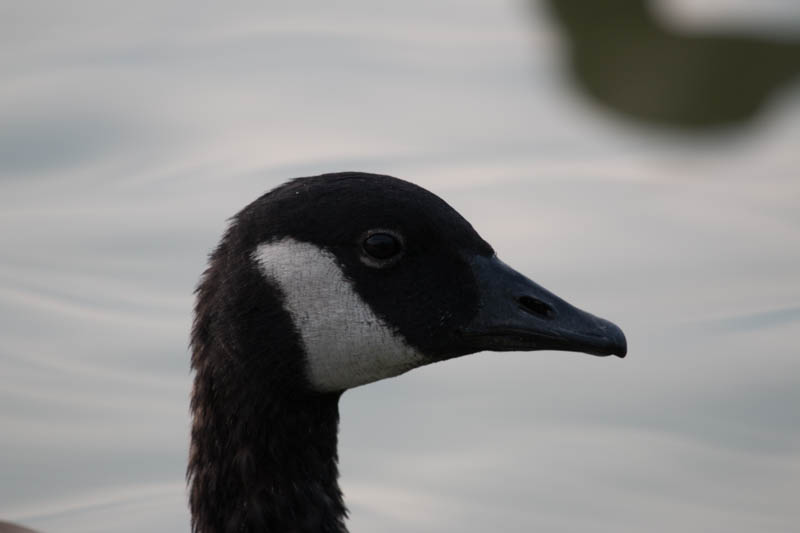goose-head: (194, 171, 628, 393)
